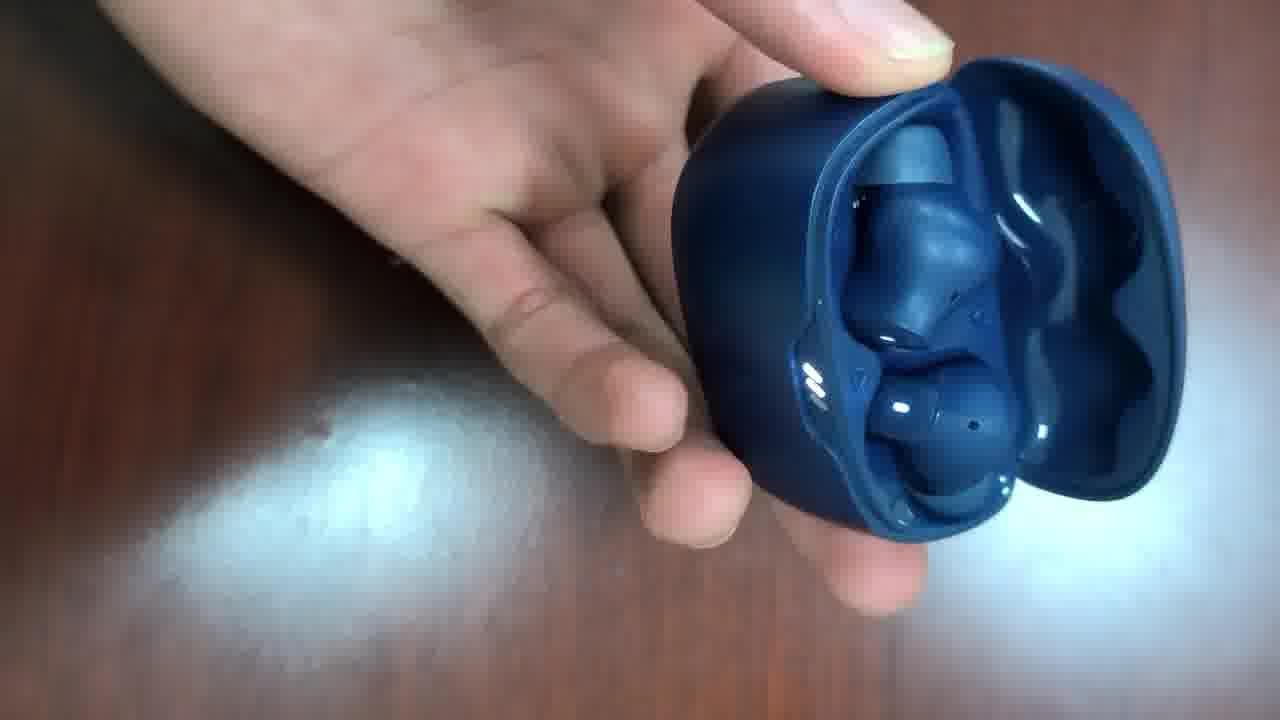Case: (672, 57, 1184, 542)
Earbud: (842, 124, 999, 347), (866, 363, 1015, 495)
